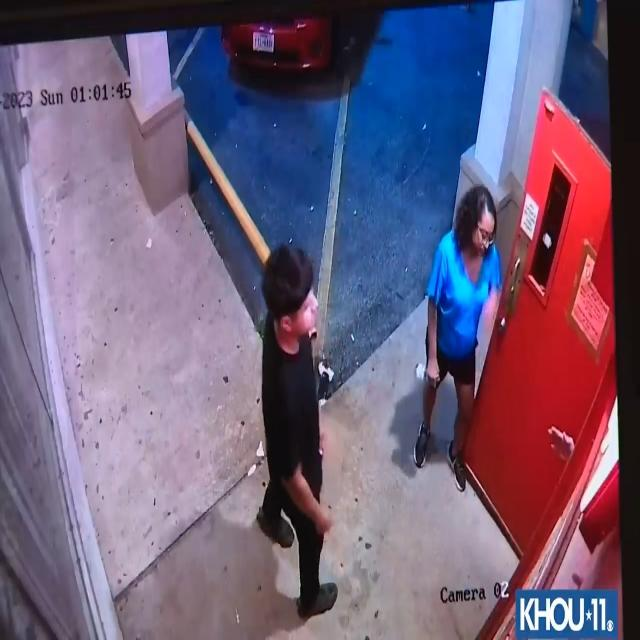Person: (253, 234, 340, 613), (414, 174, 502, 486)
